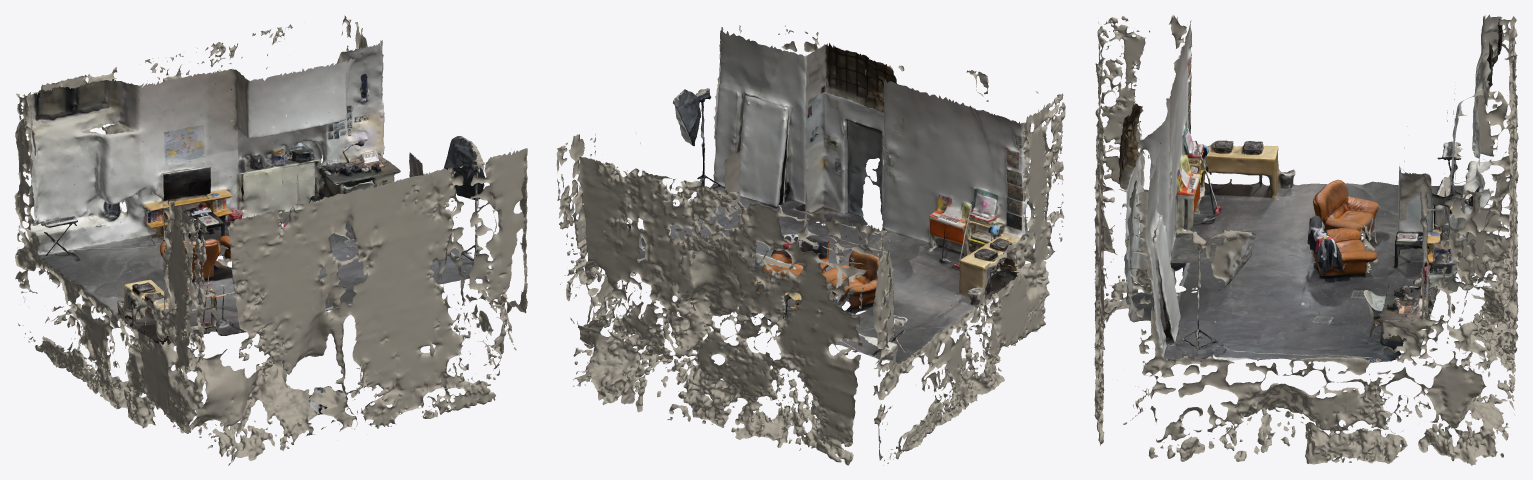
Rendered from fucktory-3d.glb.
3 views of the same model, side by side, from view 1: azimuth 30°, elevation 25°; view 2: azimuth 150°, elevation 25°; view 3: azimuth 270°, elevation 25° (orthographic). The views are drawn at different scales.
Size of the model in its own units: 4.11 by 2.96 by 4.1.
Materials: 49 (49 with a texture image).
